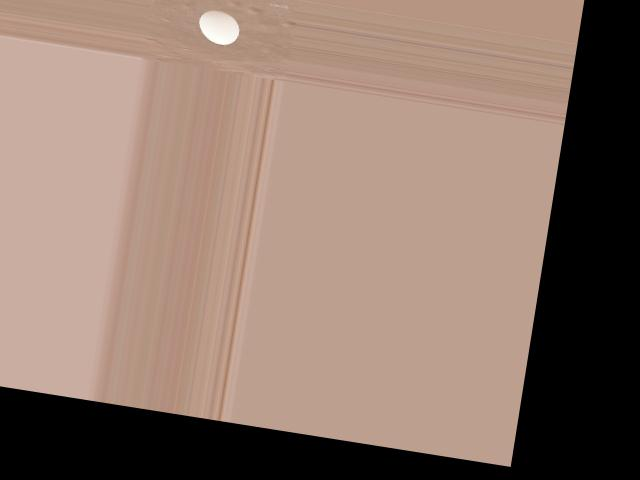egg: (195, 8, 241, 46)
